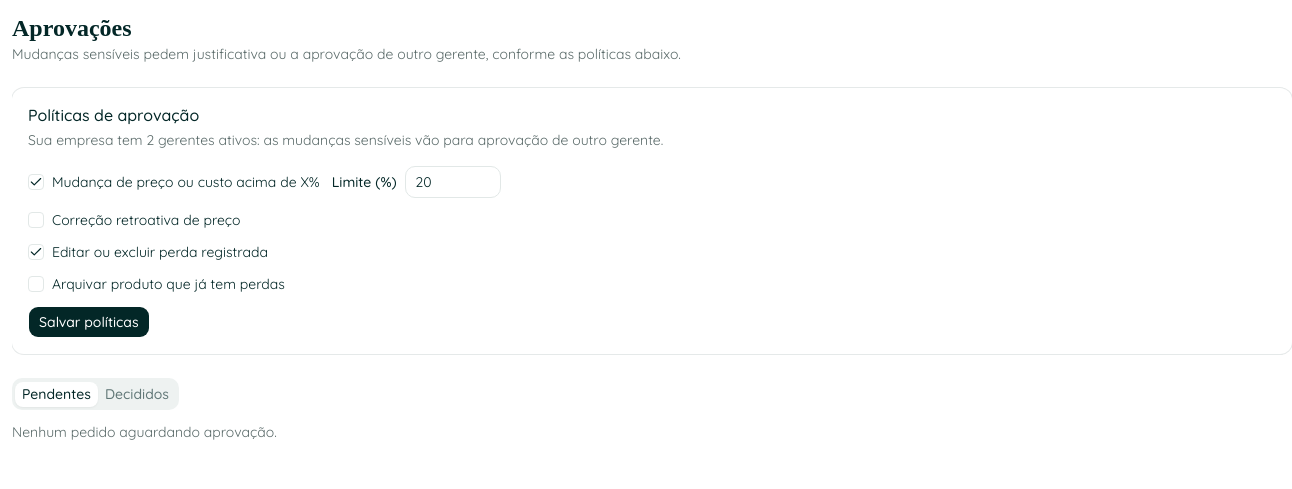
Test: AprovacoesClient › salvar políticas envia as 4, com o limite editado
Click the checkbox named "Editar ou excluir perda registrada" next to "Editar ou excluir perda registrada": (36, 252) x1=28 y1=244 x2=44 y2=260
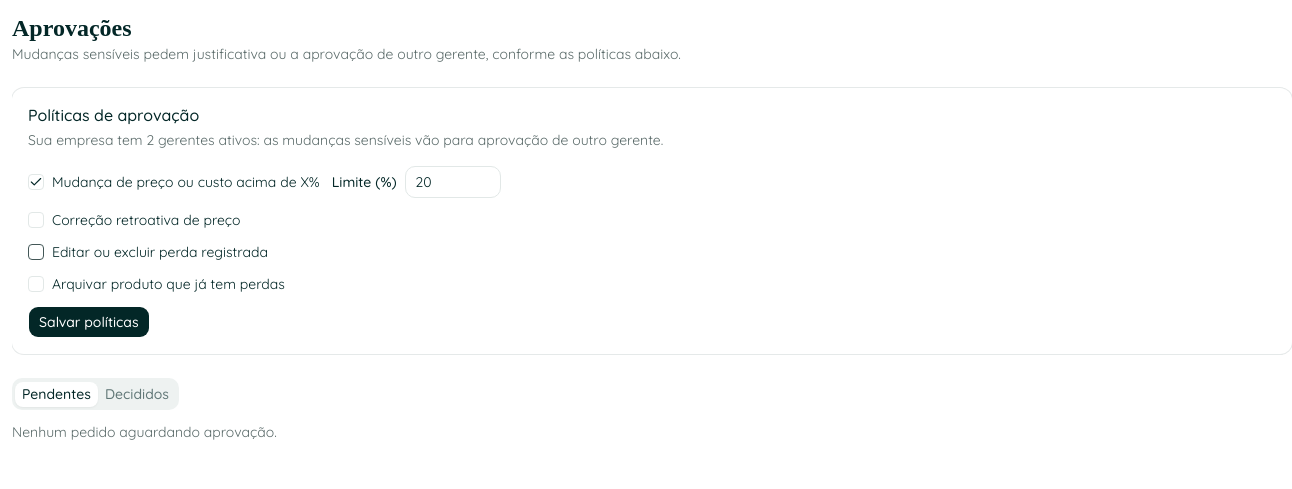
Replace the text in the number field labelled "Limite (%)" with "30": (453, 182) x1=405 y1=166 x2=501 y2=198
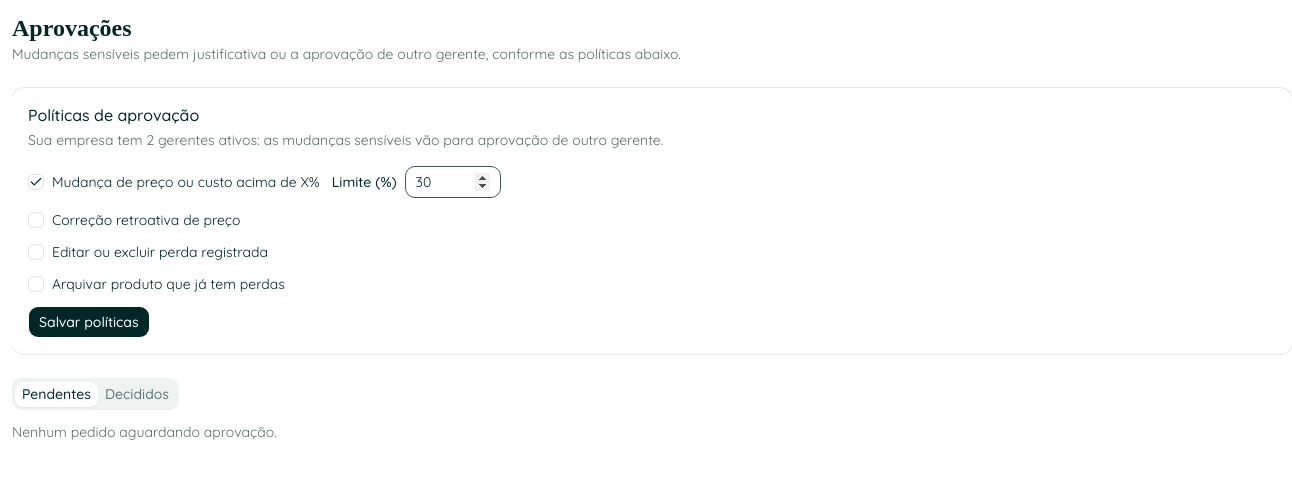
Click the button "Salvar políticas": (89, 322) x1=28 y1=306 x2=150 y2=338
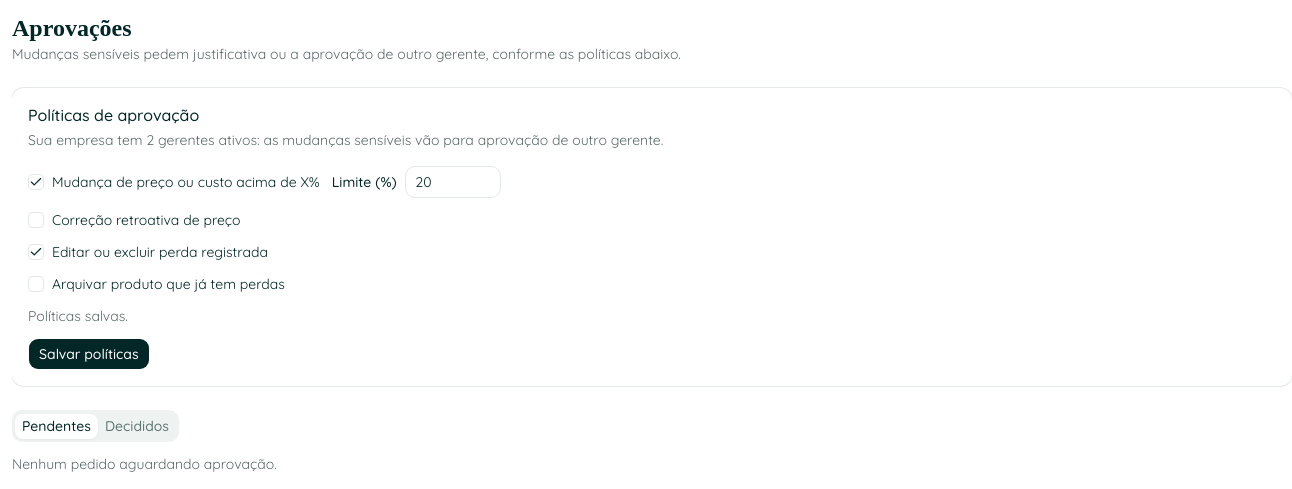
Now the text "Políticas salvas." is shown, box x1=28 y1=307 x2=128 y2=325
